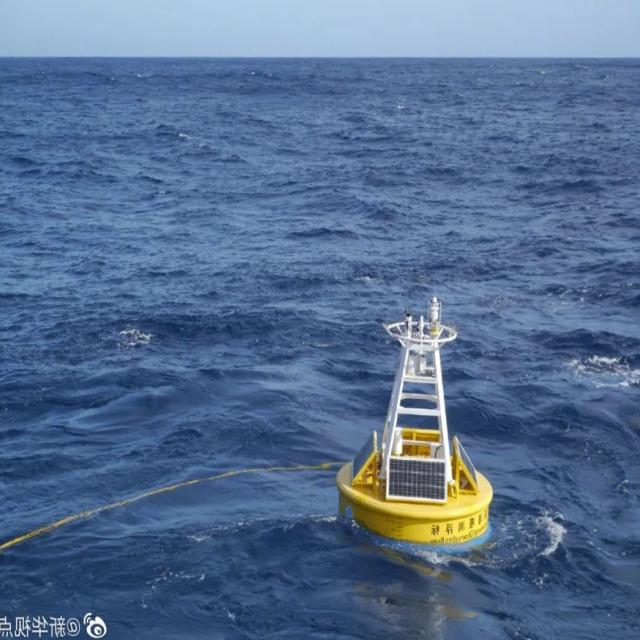buoy: (336, 295, 496, 557)
